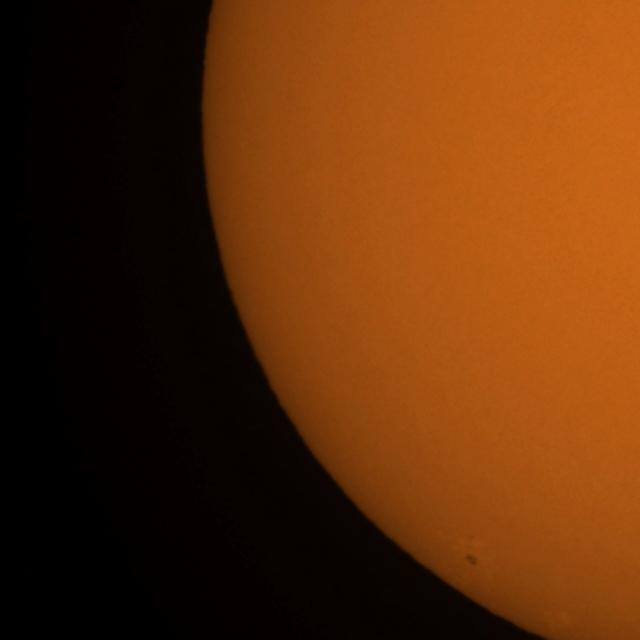sunspot: (464, 549, 478, 567)
